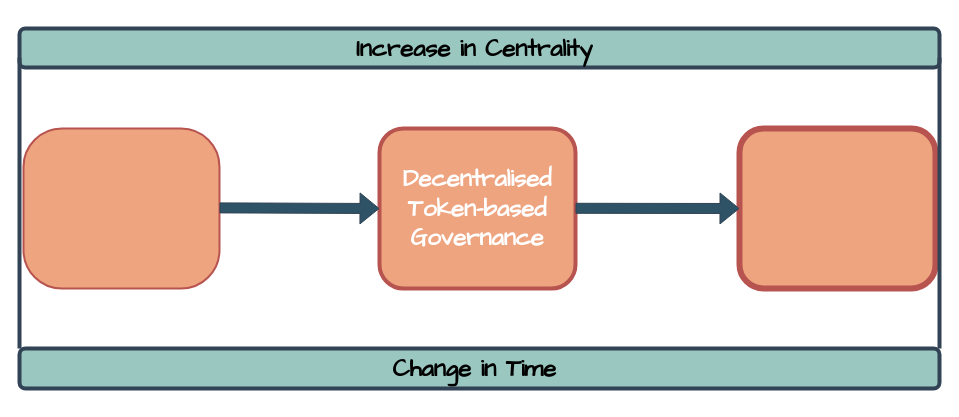
Image size: 959x417. Some labels were removed from this diagram. The centre of each missing label's shape, as x and y in pixels:
"Centralised Token-based Governance" belongs at pixel 837 208.
"Team-based Governance" belongs at pixel 121 208.
